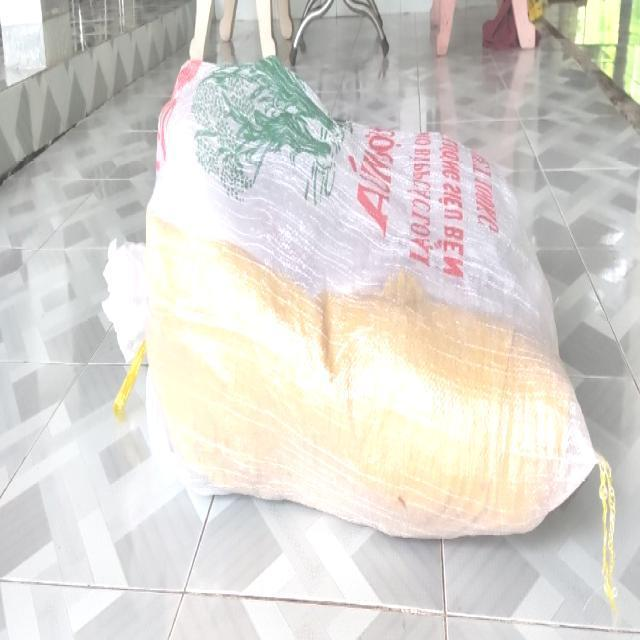gunny_bag: (146, 58, 596, 537)
